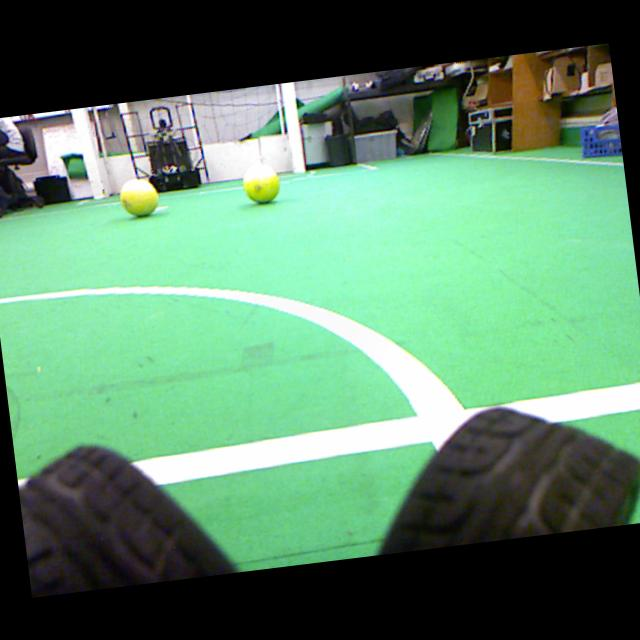ball: (242, 164, 280, 203), (119, 178, 158, 216)
goal: (71, 107, 104, 199), (281, 81, 305, 174)
robot: (146, 107, 201, 193)
